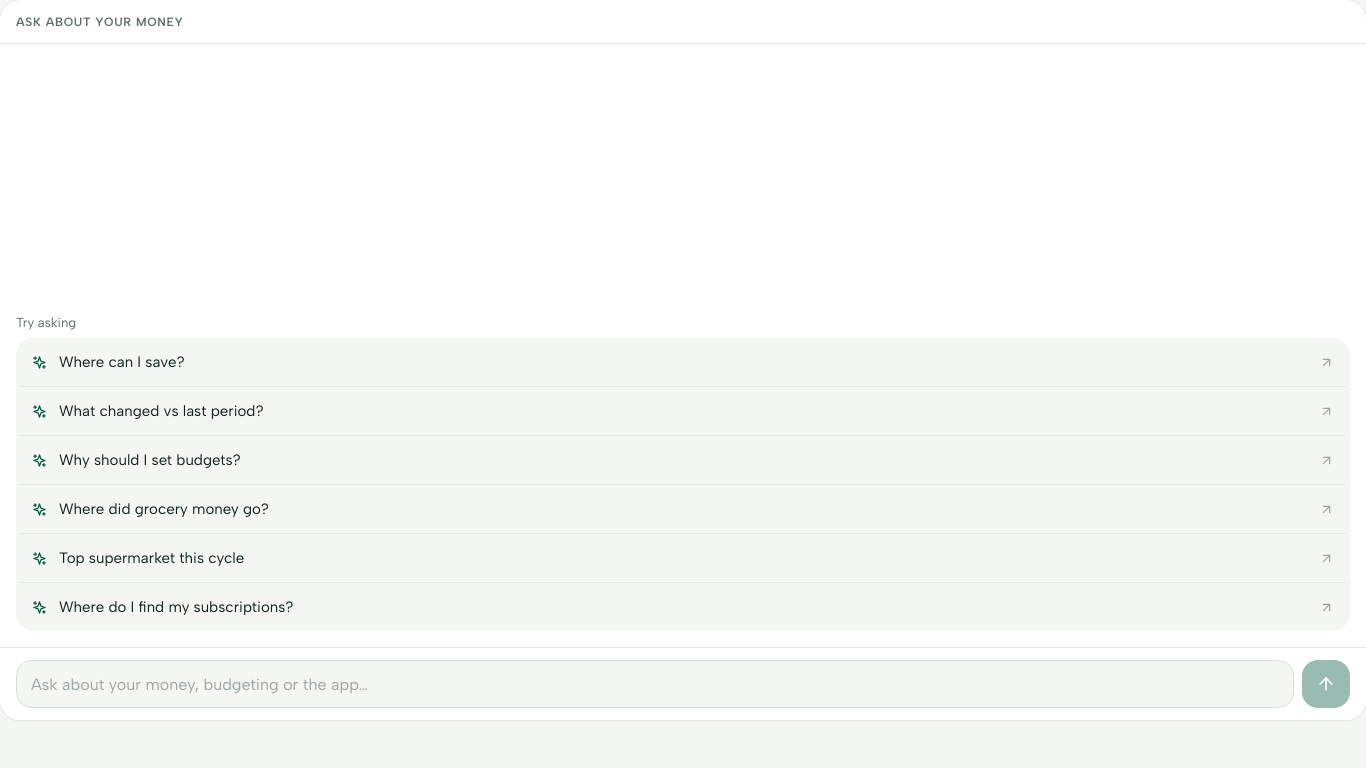
it: ChatPanel with evidence › routes free text through the deterministic router
Type "what drove grocery spending" into the field named "Ask about your spending" at x=655, y=684, box [16,660,1294,708]
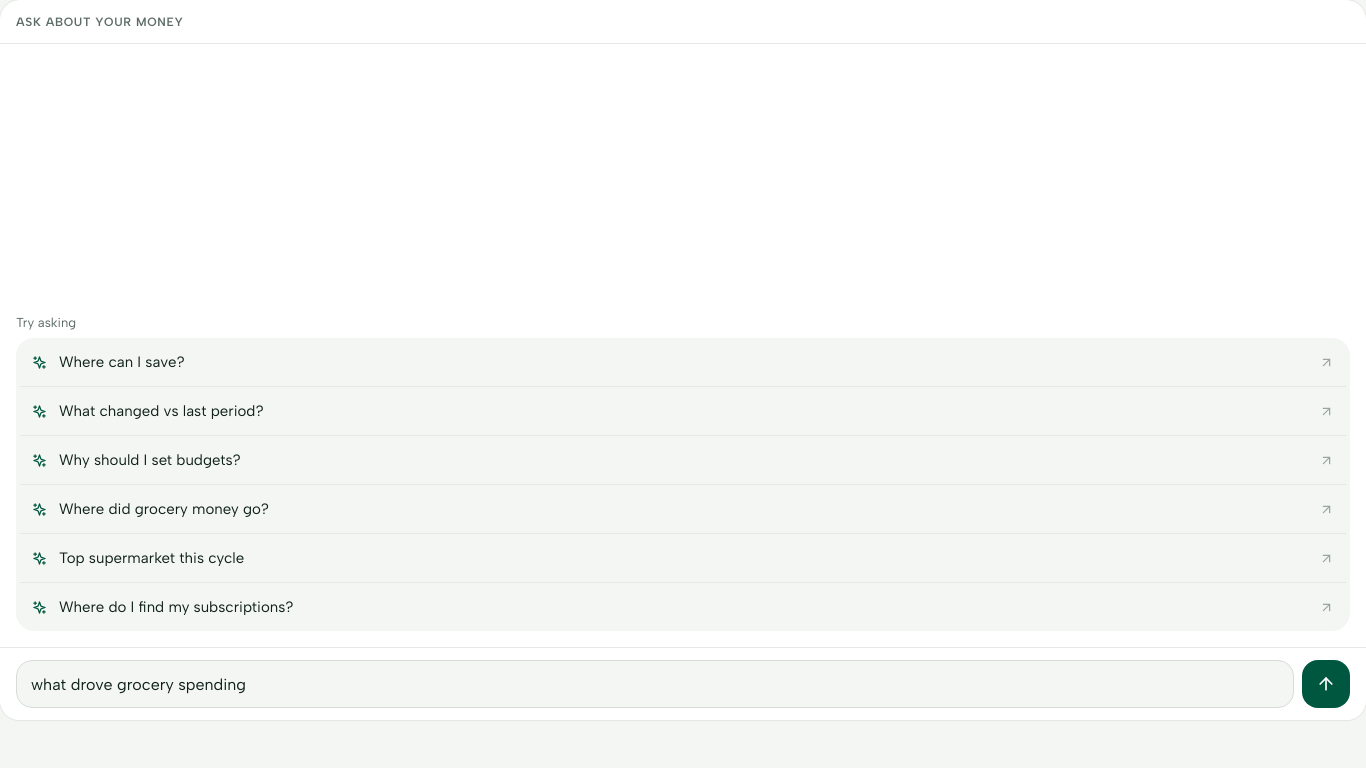
Click the button named "Send" at x=1326, y=684, box [1302,660,1350,708]
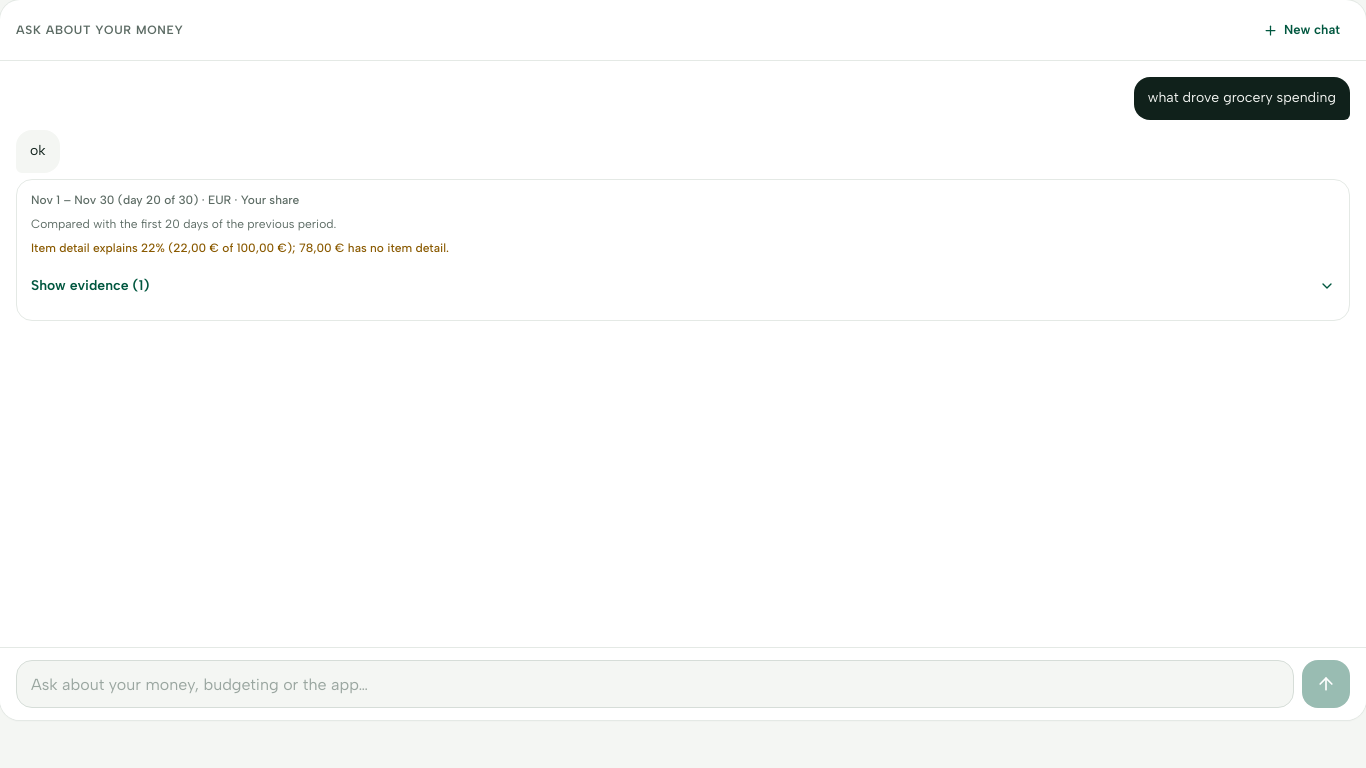
Expected: the text "ok" is shown, [30,140,46,163]
